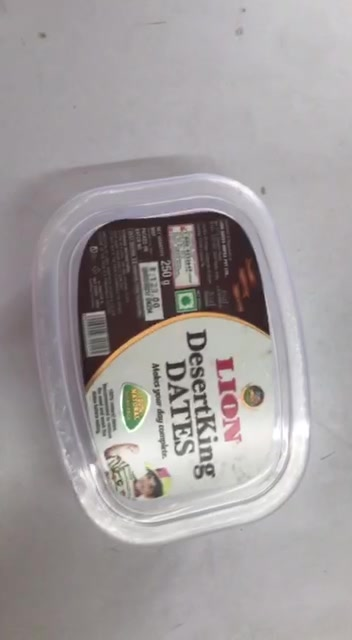Lion dates: (42, 173, 308, 548)
